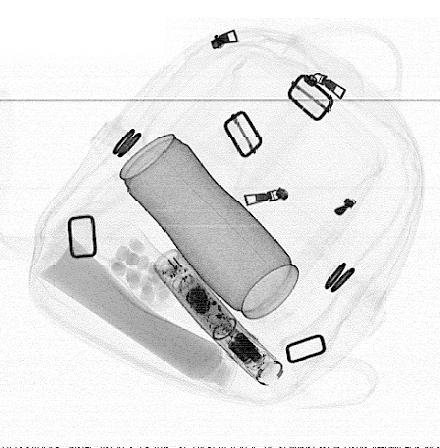Baton: (149, 246, 284, 388)
